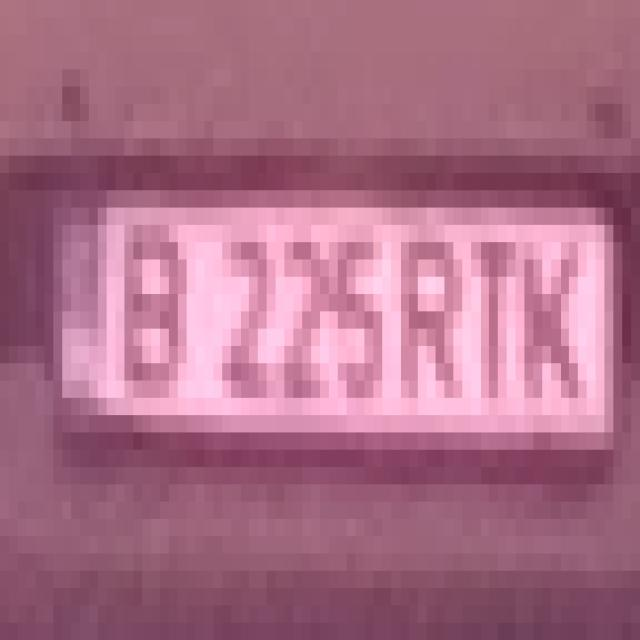Autre: (21, 177, 616, 454)
